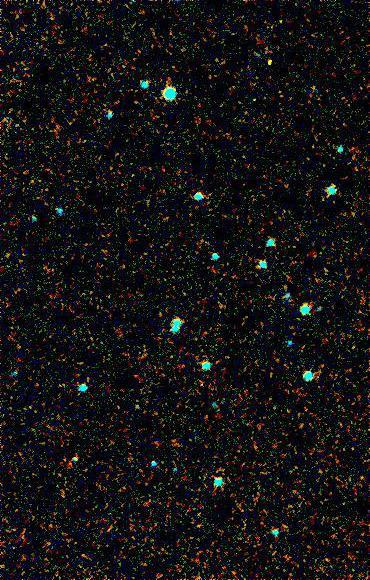star: (253, 47, 283, 77)
